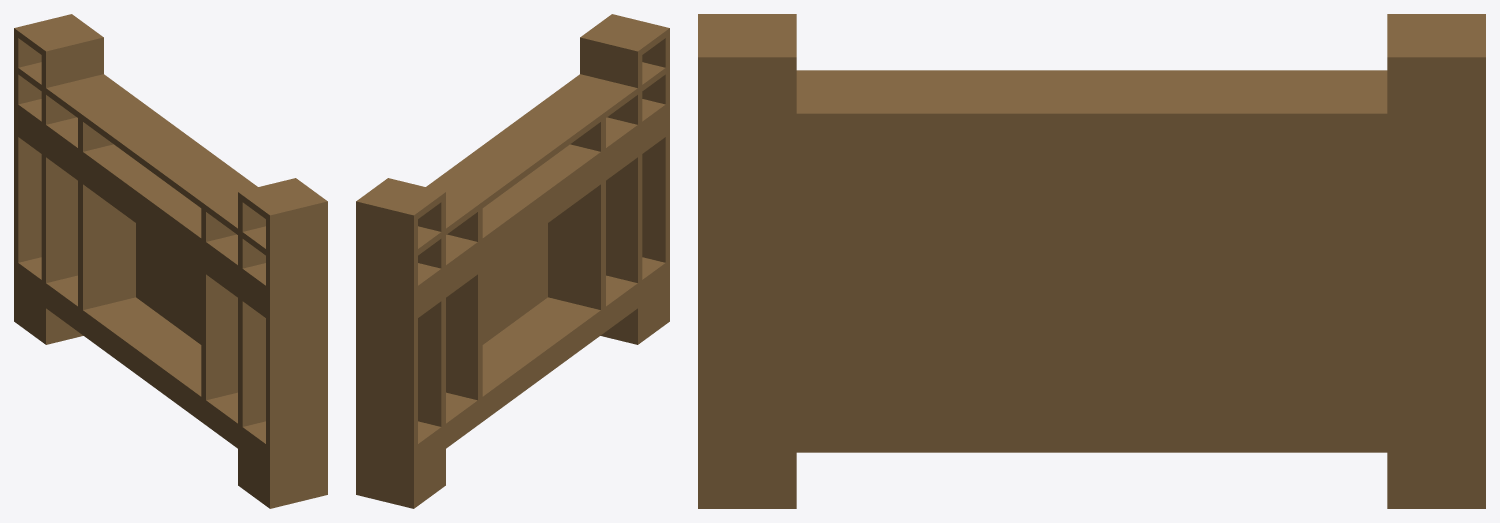
Rendered from TvStand.fbx.
3 renders of one model, left to right at view 1: azimuth 30°, elevation 25°; view 2: azimuth 150°, elevation 25°; view 3: azimuth 270°, elevation 25°, orthographic. The views are drawn at different scales.
Visible parts, largest first — view 1: TvStand; view 2: TvStand; view 3: TvStand.
Part boxes in pixels (left/top/right/bottom): TvStand: left=14, top=14, right=327, bottom=508; TvStand: left=356, top=14, right=669, bottom=508; TvStand: left=698, top=14, right=1485, bottom=508.
Size of the model in its own units: 7.16 by 34.78 by 54.98.
